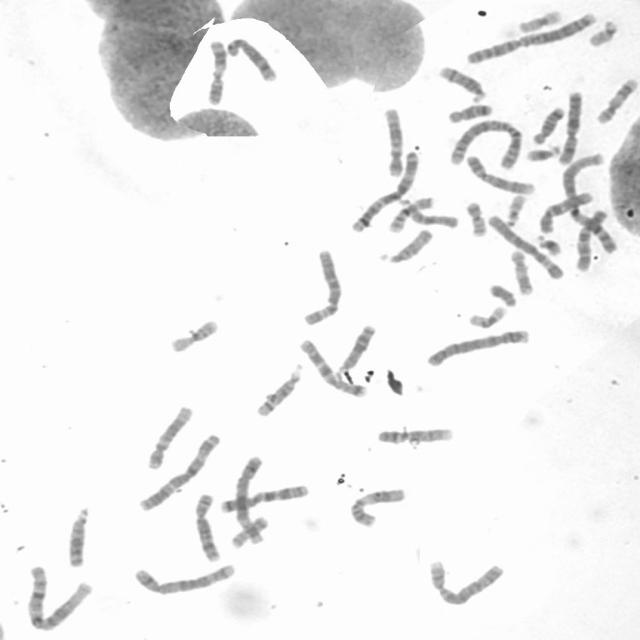A1: (560, 151, 617, 255), (23, 564, 94, 634)
A2: (463, 9, 598, 65), (448, 118, 523, 169)
A3: (136, 433, 222, 513), (350, 152, 420, 234)
B4: (426, 554, 505, 609), (426, 329, 532, 368)
B5: (133, 564, 236, 596), (234, 454, 266, 545)
C10: (538, 190, 594, 233), (574, 208, 608, 273)
C11: (348, 487, 407, 530), (205, 38, 228, 106)
C12: (146, 404, 194, 471), (382, 108, 404, 178)
C6: (487, 214, 566, 281), (302, 250, 343, 326)
C7: (299, 338, 368, 398), (219, 485, 311, 514)
C8: (226, 37, 277, 84), (193, 492, 223, 562)
C9: (466, 155, 535, 195), (378, 427, 458, 446)
D13: (336, 321, 378, 376), (66, 504, 92, 567)
D14: (253, 362, 305, 418), (438, 65, 487, 104)
D15: (398, 197, 460, 229), (379, 228, 434, 264)
E16: (167, 318, 219, 354), (387, 195, 436, 232)
E17: (596, 74, 640, 124), (510, 250, 534, 296)
E18: (532, 105, 564, 144), (448, 103, 493, 123)
F19: (514, 8, 564, 33), (466, 305, 508, 330)
F20: (228, 516, 269, 548), (466, 201, 488, 238)
G21: (523, 144, 562, 164), (536, 234, 563, 256)
G22: (586, 20, 620, 47), (504, 195, 527, 229)
X: (558, 89, 583, 167)
Y: (489, 283, 518, 307)
